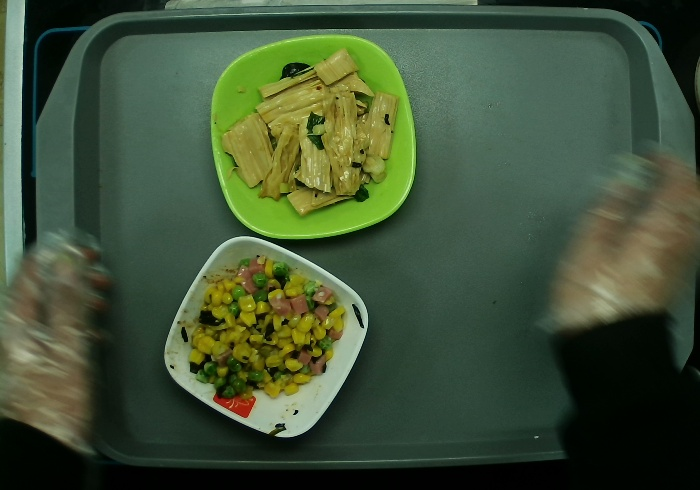SHKJ-Bai_Se_Xiao_Fang_Die: (163, 235, 369, 439)
SHKJ-Lv_Se_Cai_Die: (208, 36, 419, 241)
